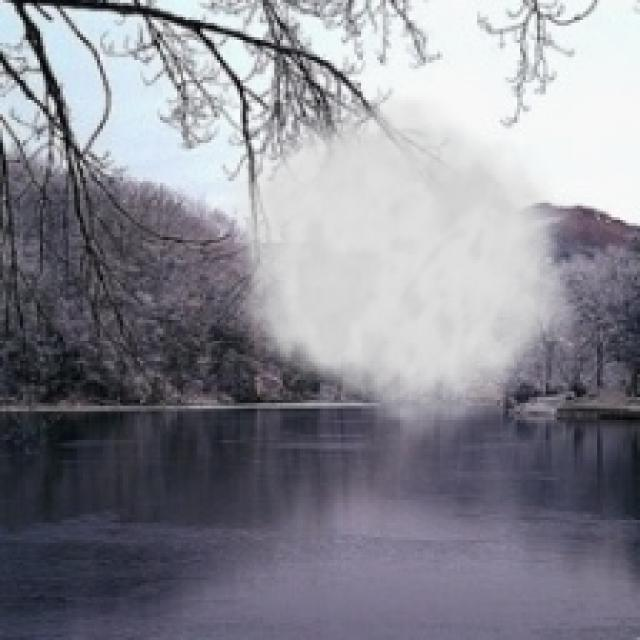smoke: (214, 83, 583, 440)
